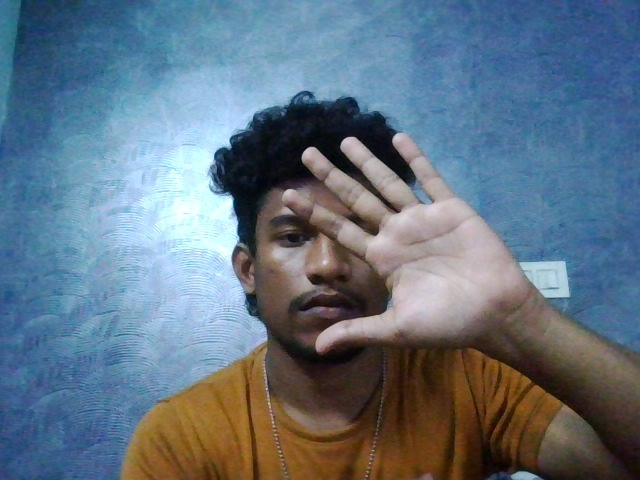hello: (272, 142, 553, 381)
